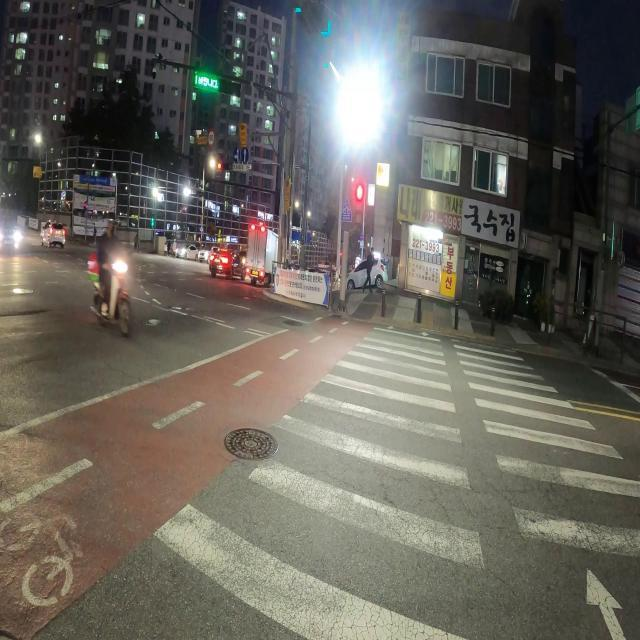crosswalk: (142, 323, 640, 640)
